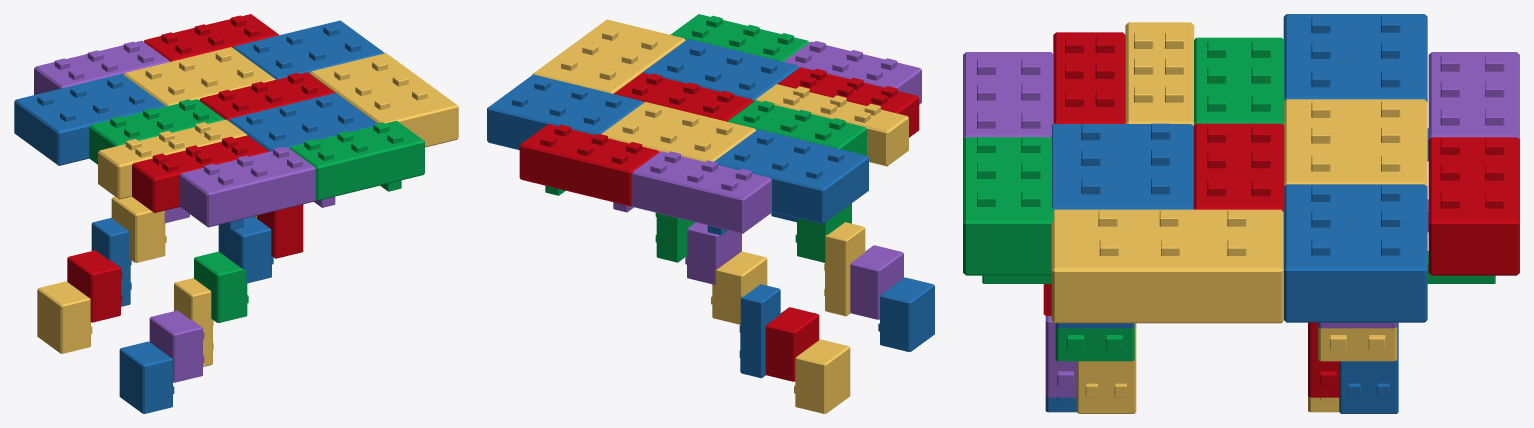
The model's file is platform.fbx.
3 renders of one model, left to right at view 1: azimuth 30°, elevation 25°; view 2: azimuth 150°, elevation 25°; view 3: azimuth 270°, elevation 25°, orthographic. The views are drawn at different scales.
Parts seen in each view (by area): view 1: platform; view 2: platform; view 3: platform.
Boxes of the visible parts, box(x1,y1,x2,y2) form: platform: box(14, 14, 458, 413); platform: box(487, 14, 934, 413); platform: box(963, 14, 1519, 413).
Bounding box in the file's own units: 2256 × 1543 × 2071.
